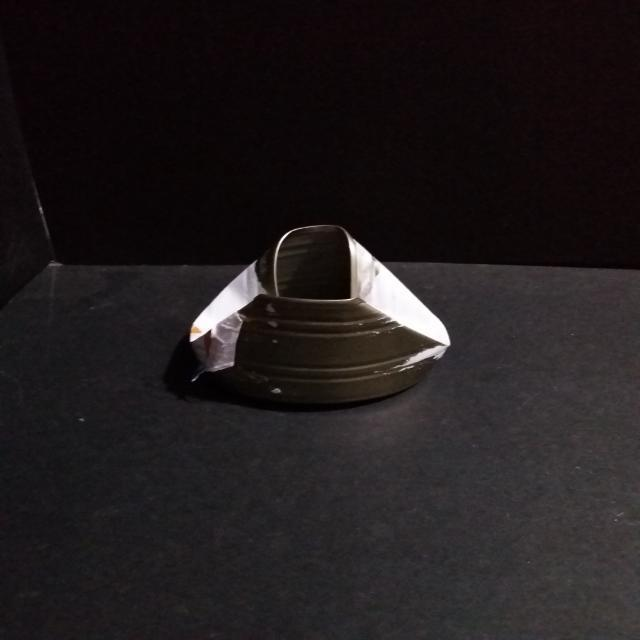metal-can: (186, 220, 452, 405)
